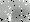person: (8, 9, 14, 21)
